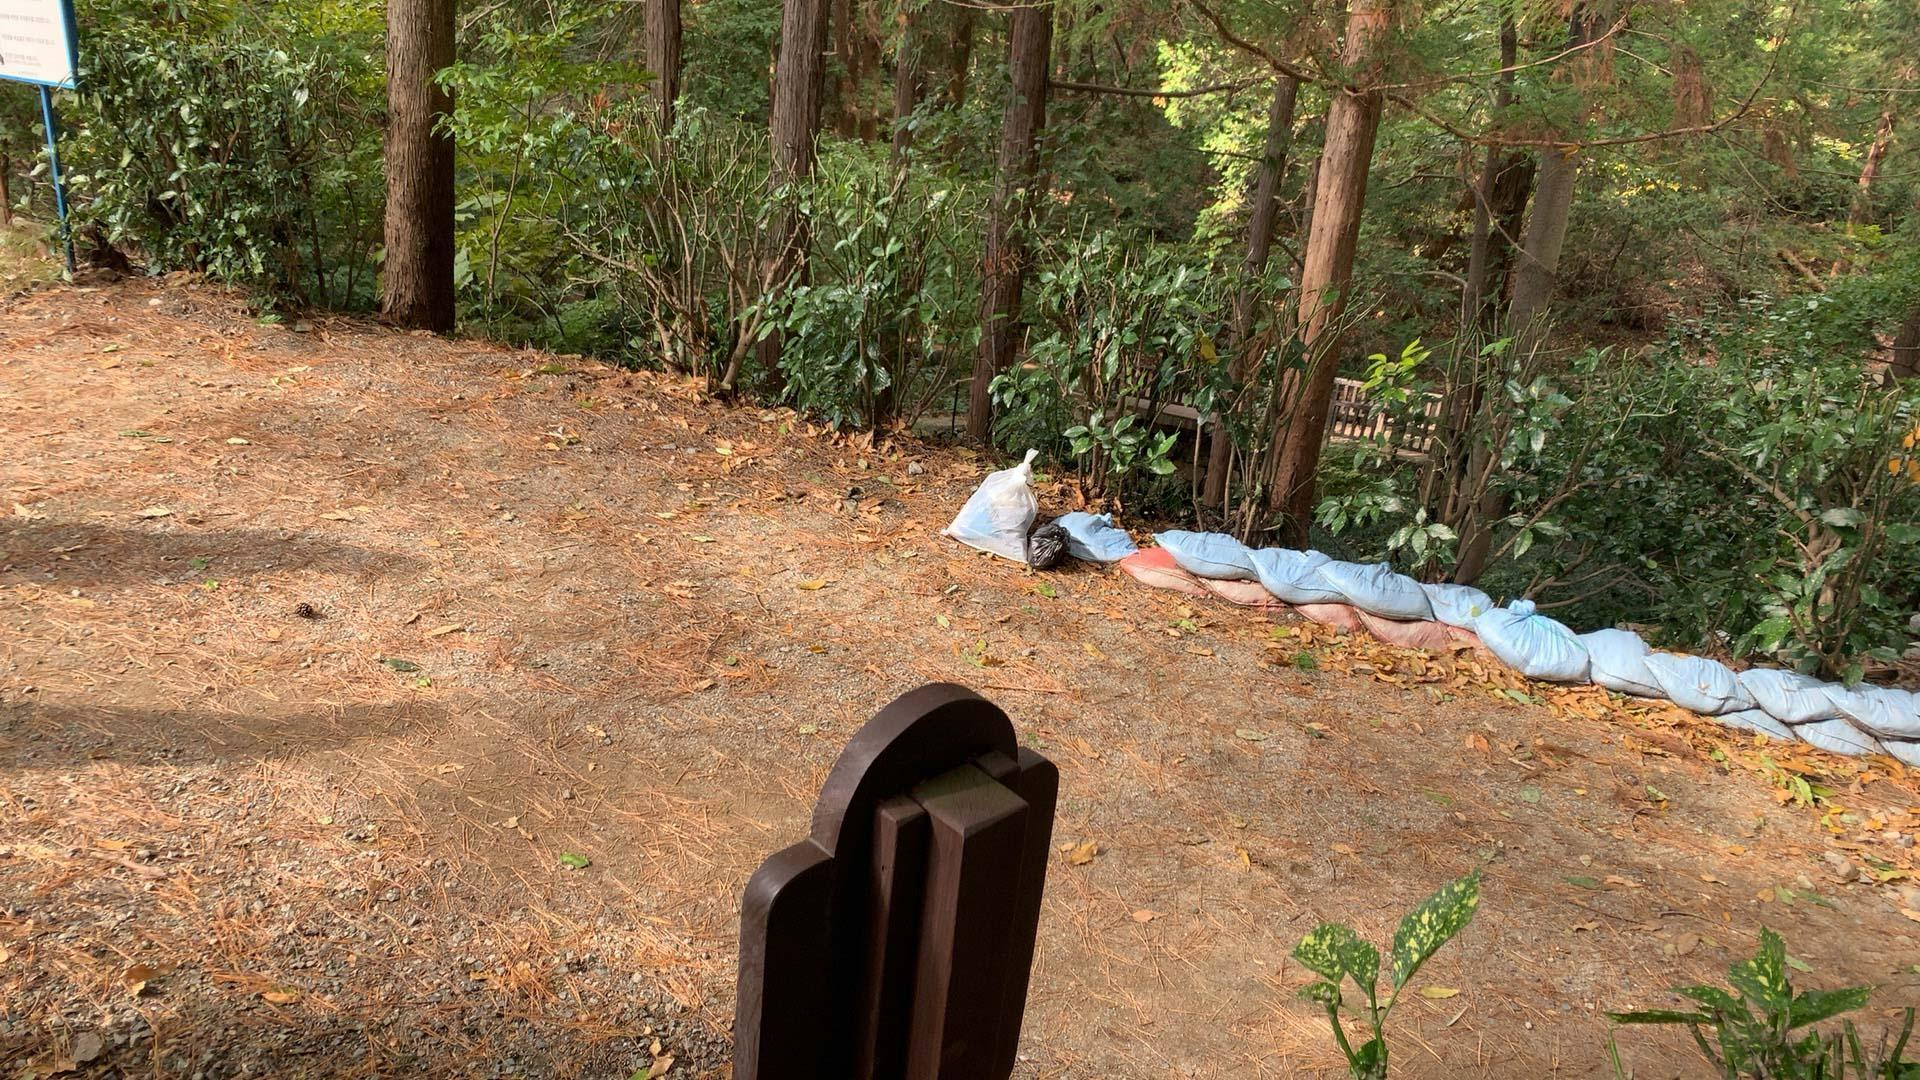black_bag: (1019, 516, 1071, 574)
white_bag: (934, 440, 1040, 574)
